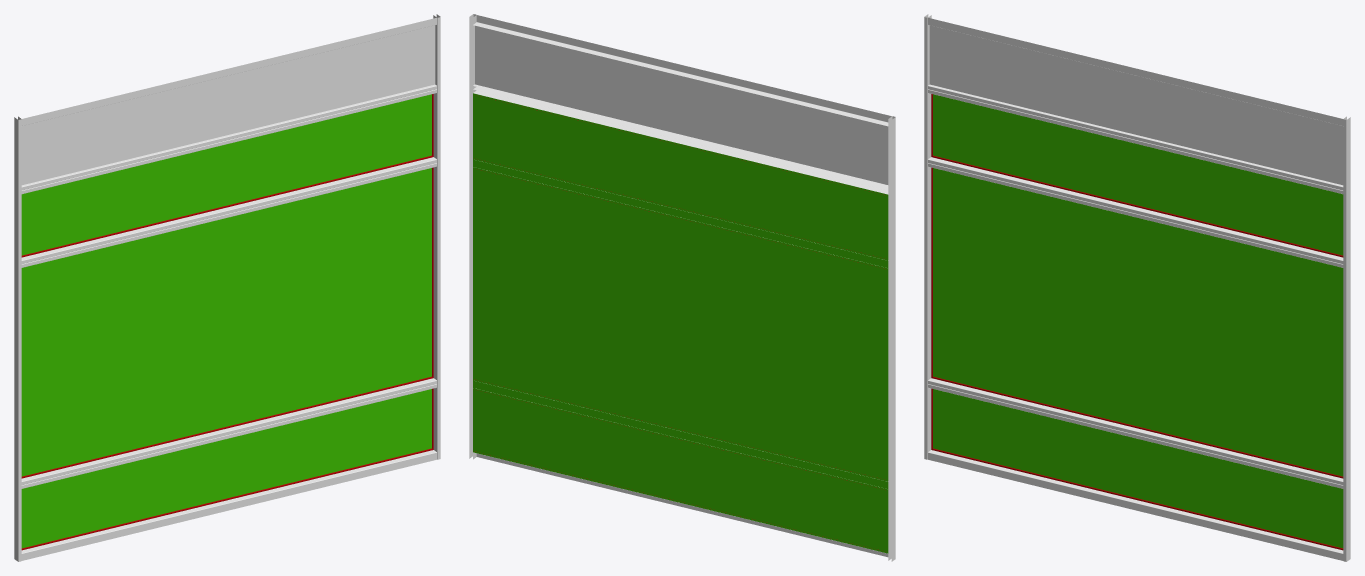
File: Wall04.fbx
The picture shows the model from 3 angles, left to right: view 1: azimuth 30°, elevation 25°; view 2: azimuth 150°, elevation 25°; view 3: azimuth 330°, elevation 25°; orthographic projection.
Visible parts, largest first — view 1: Wall04; view 2: Wall04; view 3: Wall04.
Part boxes in pixels (x1,y1,x2,y2): Wall04: (14, 14, 440, 561); Wall04: (469, 14, 895, 561); Wall04: (924, 14, 1350, 561).
Bounding box in the file's own units: 300 × 300 × 5.
